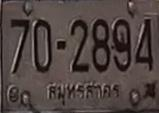0: (34, 18, 52, 72)
2: (70, 19, 89, 72)
4: (135, 18, 152, 70)
7: (10, 18, 30, 73)
8: (91, 18, 110, 72)
9: (112, 18, 130, 72)
SKN: (43, 79, 121, 107)
